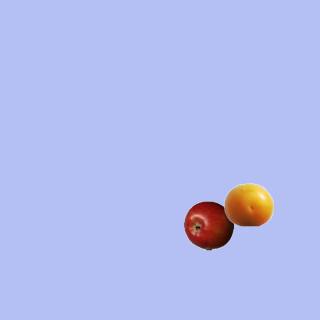Apple Braeburn: (183, 200, 233, 250)
Cherry Wax Yellow: (223, 179, 273, 229)
